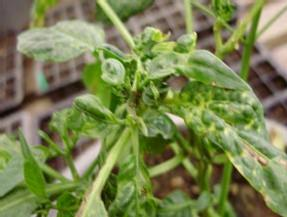Tomato leaf mosaic virus: (172, 78, 283, 208), (65, 94, 125, 143), (107, 154, 152, 217)
